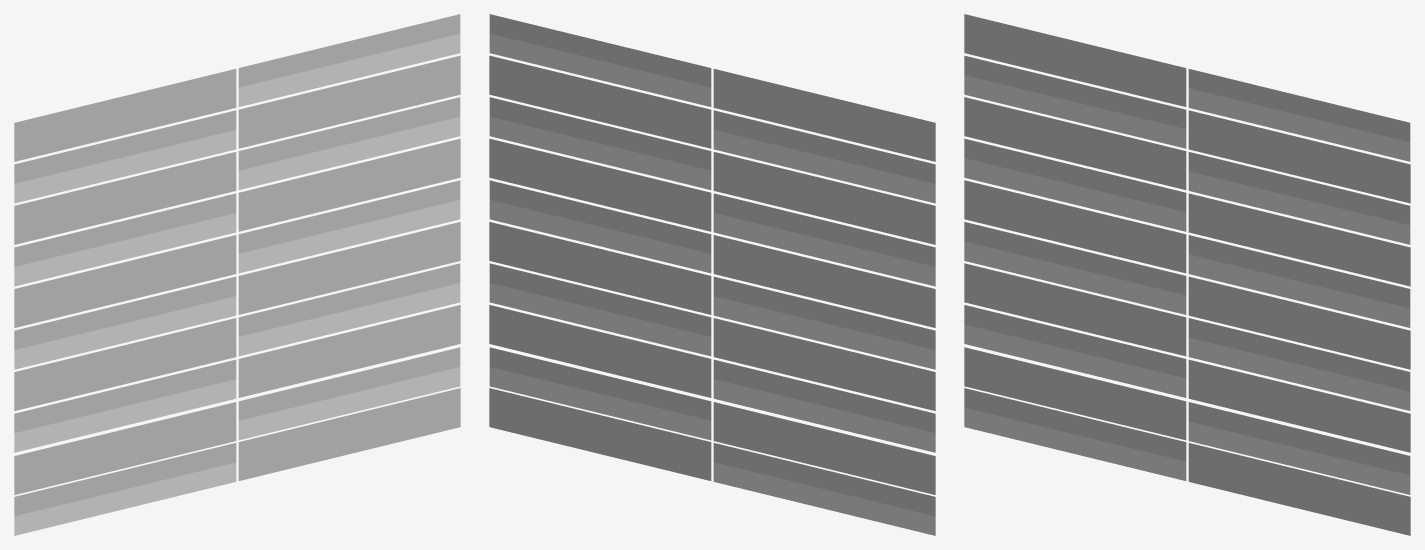
The model's file is madisondewey.gltf.
The picture shows the model from 3 angles, left to right: view 1: azimuth 30°, elevation 25°; view 2: azimuth 150°, elevation 25°; view 3: azimuth 330°, elevation 25°; orthographic projection.
Visible parts, largest first — view 1: madisob; view 2: madisob; view 3: madisob.
Part boxes in pixels (<box>): madisob: <box>14,14,460,535</box>; madisob: <box>489,14,935,535</box>; madisob: <box>964,14,1410,535</box>.
Bounding box in the file's own units: 0.3031 × 0.2682 × 0.
30 materials, 30 textured.
